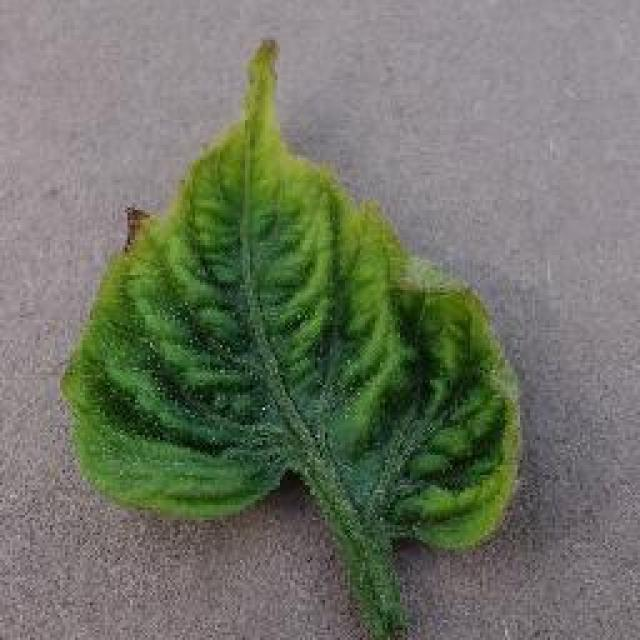Tomato yellow virus leaf: (72, 29, 526, 548)
